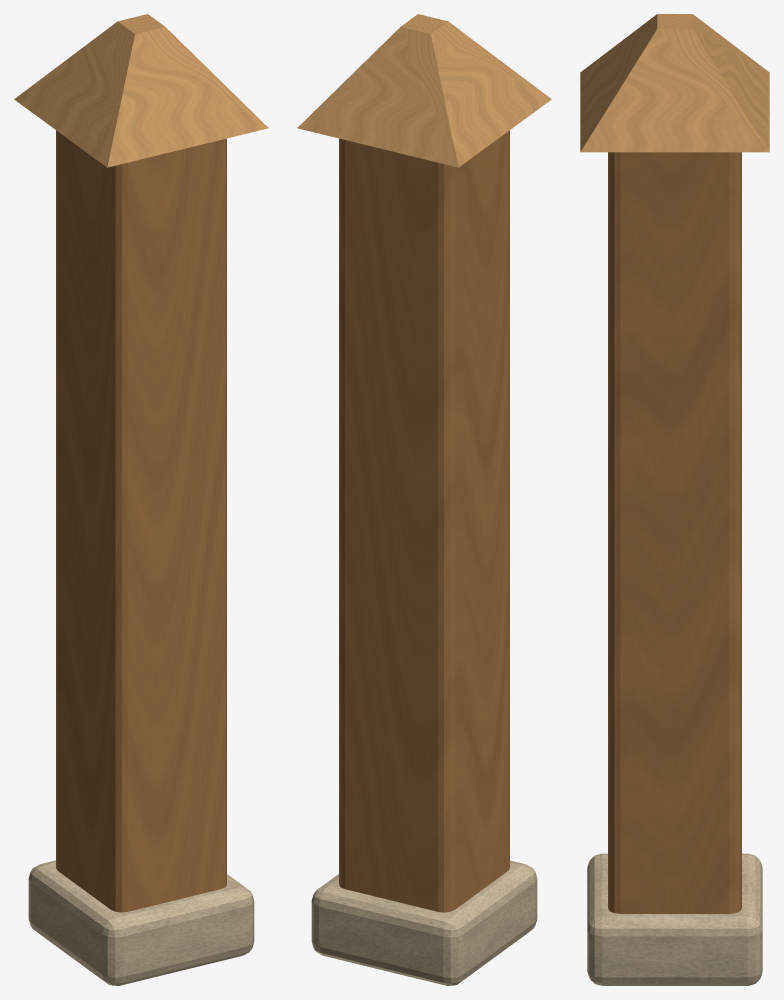
Rendered from fence-post.glb.
3 views of the same model, side by side, from view 1: azimuth 30°, elevation 25°; view 2: azimuth 150°, elevation 25°; view 3: azimuth 270°, elevation 25° (orthographic).
Visible parts, largest first — view 1: fence_post; view 2: fence_post; view 3: fence_post.
Part boxes in pixels (x1,y1,x2,y2): fence_post: (14,14,268,985); fence_post: (297,14,551,985); fence_post: (580,14,769,985).
Bounding box in the file's own units: 0.2263 × 1.23 × 0.2263.
Materials: 3 (3 with a texture image).
